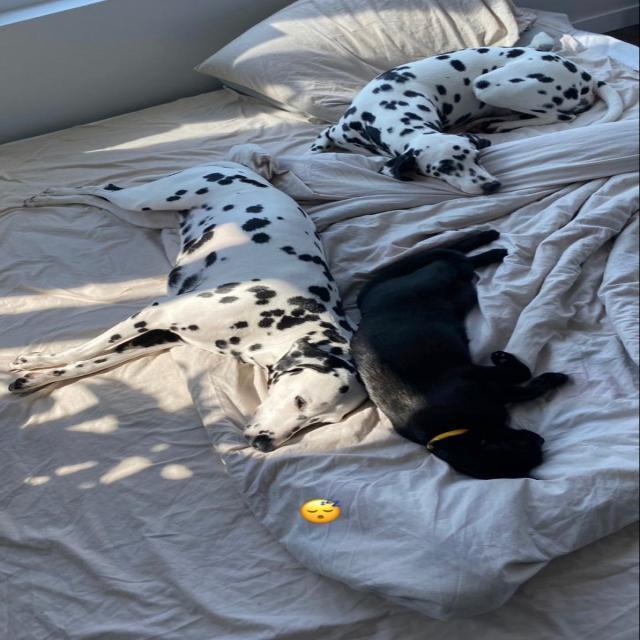Dogs: (3, 142, 373, 454), (338, 220, 594, 480), (299, 41, 612, 201)
